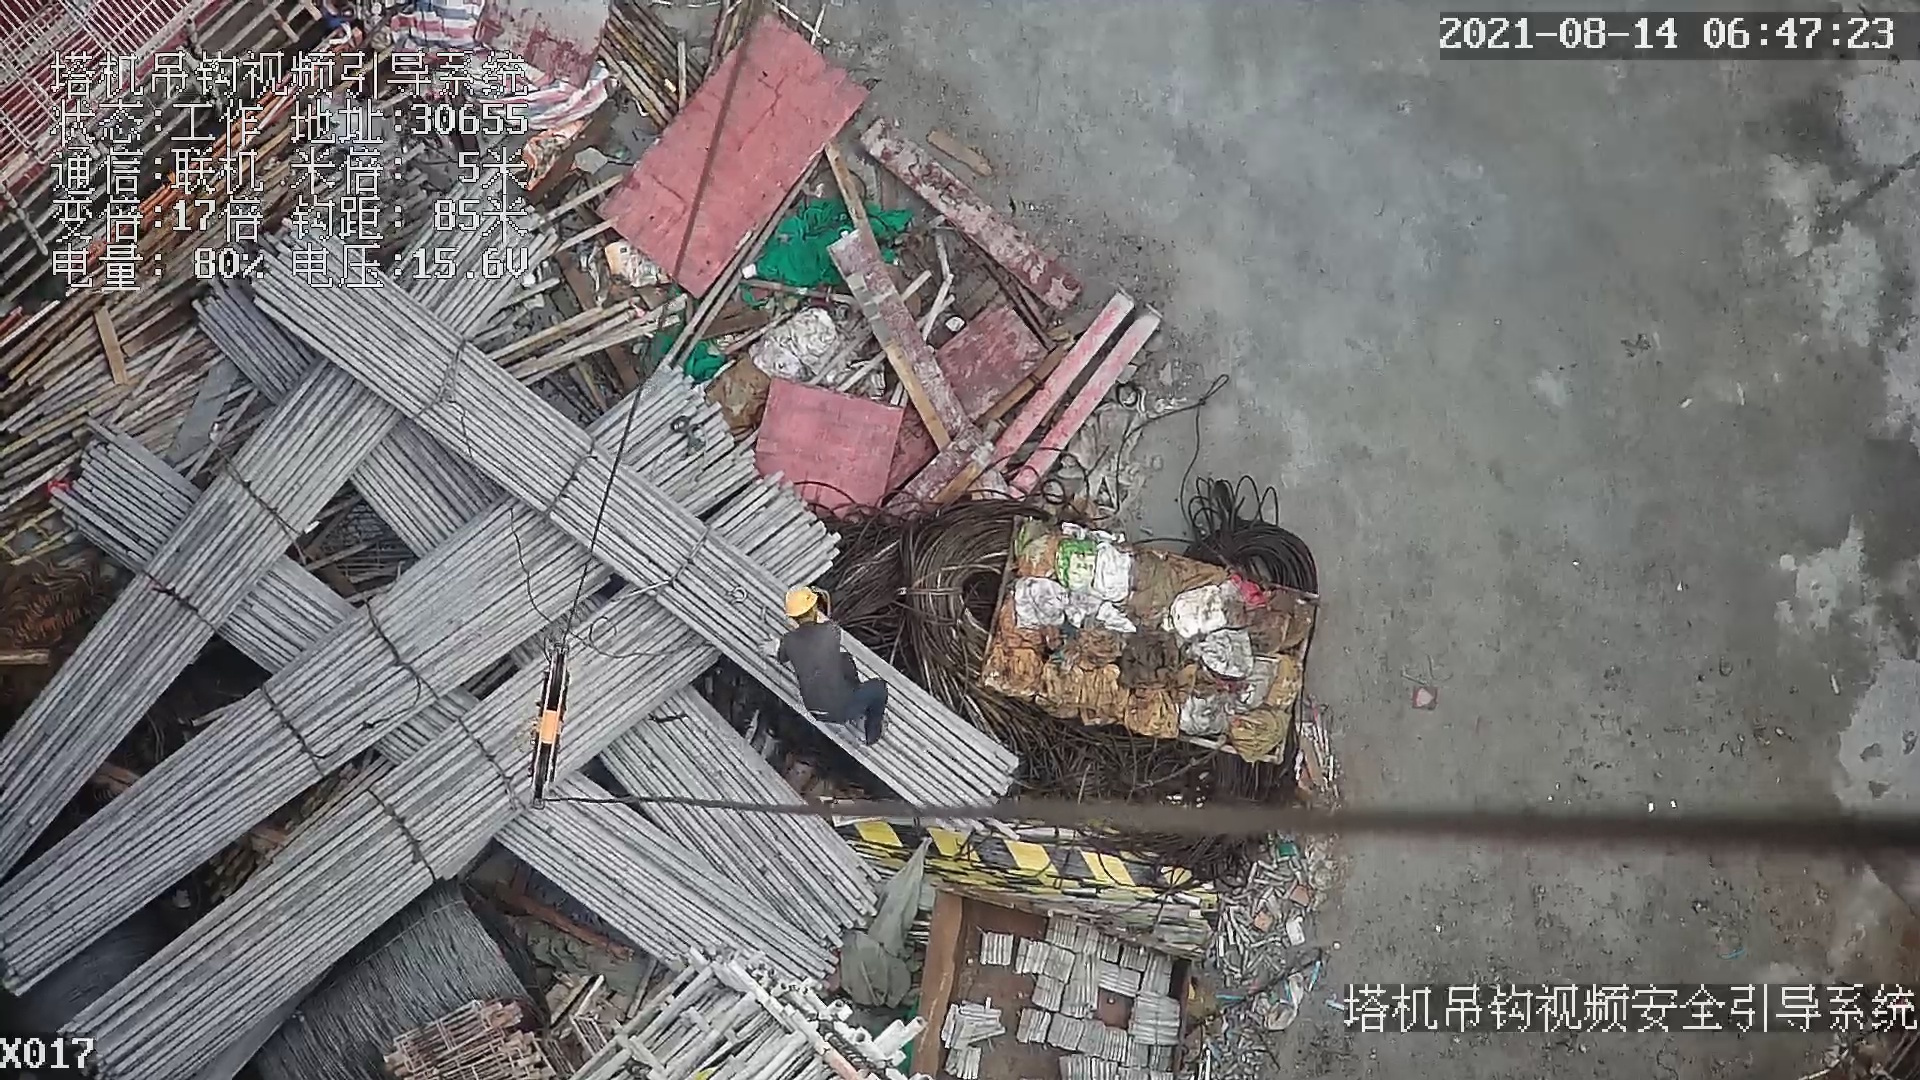board: (591, 9, 873, 290)
helmet: (784, 578, 812, 615)
hook: (522, 646, 578, 812)
person: (756, 581, 903, 741)
